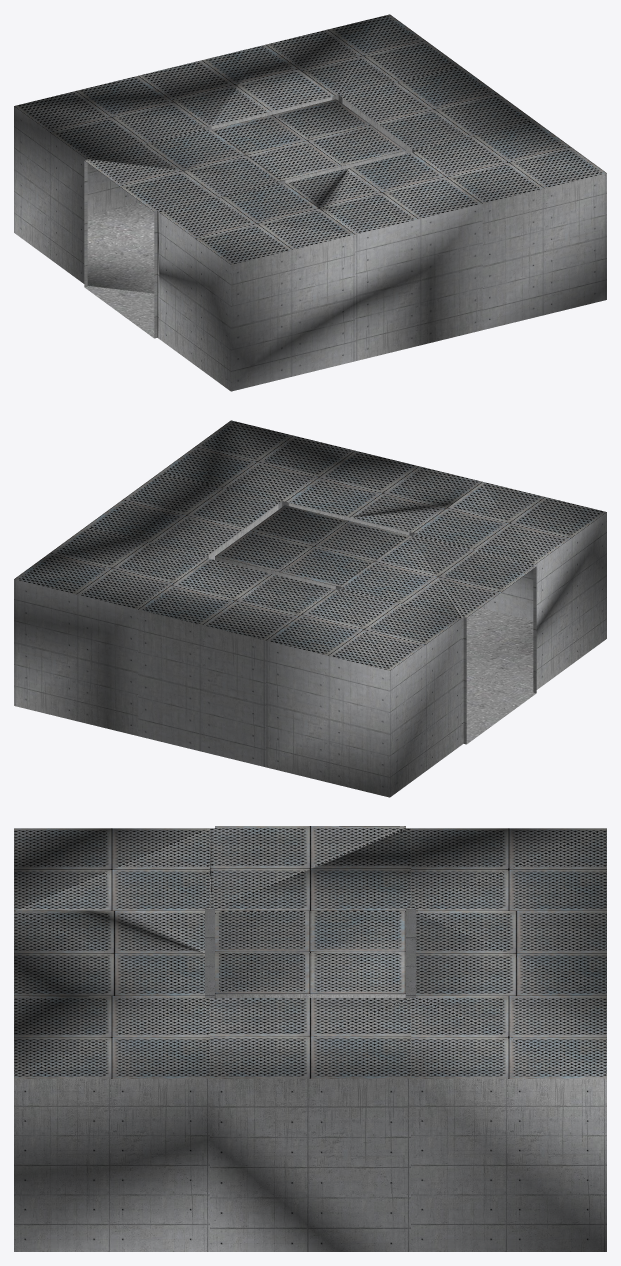
File: CUTheBreathingHall.fbx
3 views of the same model, one above another, from view 1: azimuth 30°, elevation 25°; view 2: azimuth 150°, elevation 25°; view 3: azimuth 270°, elevation 25° (orthographic). The views are drawn at different scales.
Parts seen in each view (by area): view 1: Room.006; view 2: Room.006; view 3: Room.006.
Part boxes in pixels (left/top/right/bottom): Room.006: left=14, top=14, right=606, bottom=391; Room.006: left=14, top=420, right=606, bottom=797; Room.006: left=14, top=826, right=606, bottom=1251.
Size of the model in its own units: 595 by 190 by 590.
